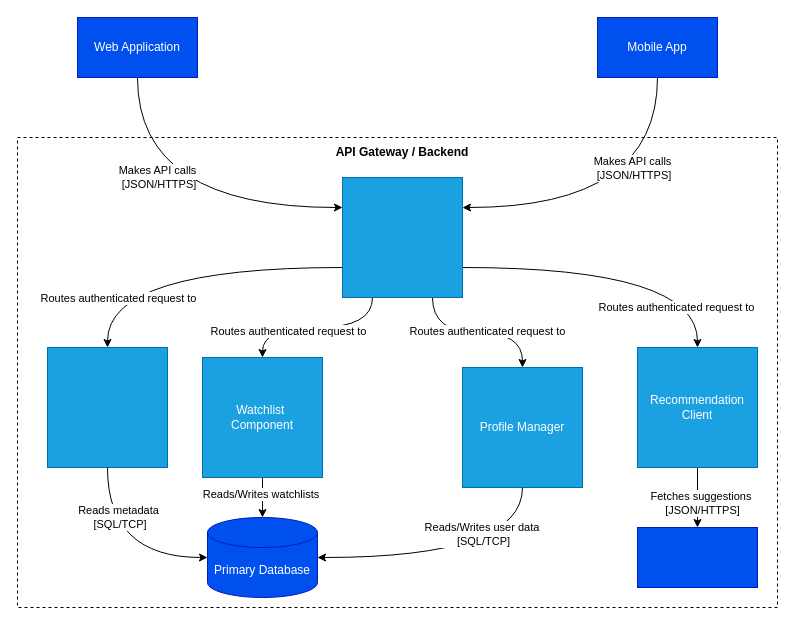
This 795x625 diagram has some shape labels left out. Each missing label, with the centre of its shape:
"Recommendation Service" belongs at (697,557).
"Security & Auth Controller" belongs at (402,237).
"Video Catalog Manager" belongs at (107,407).
